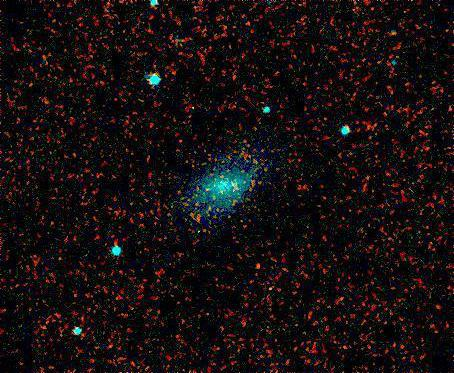star: (242, 253, 272, 283)
